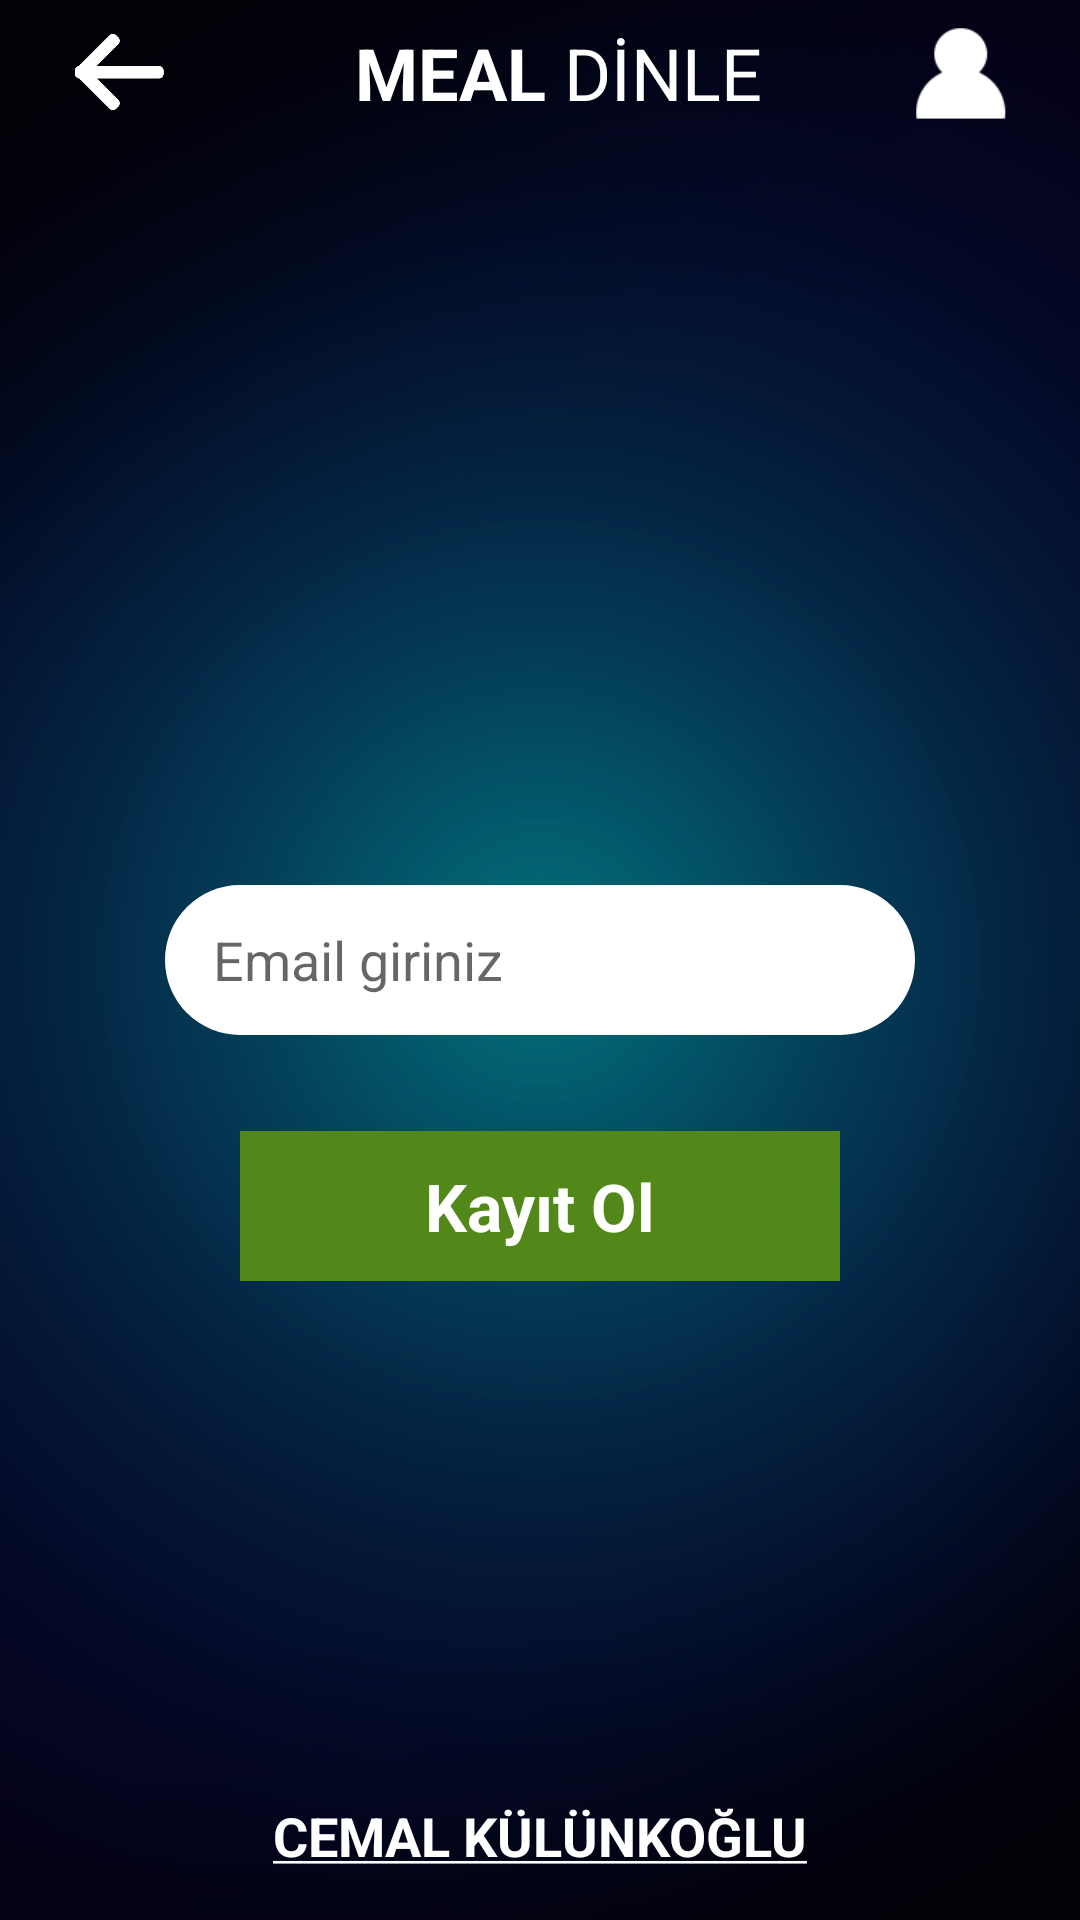

Named icons in this screenshot (1080*1920) and their centers, [x,y]:
back: [119,72]
user: [961,73]
